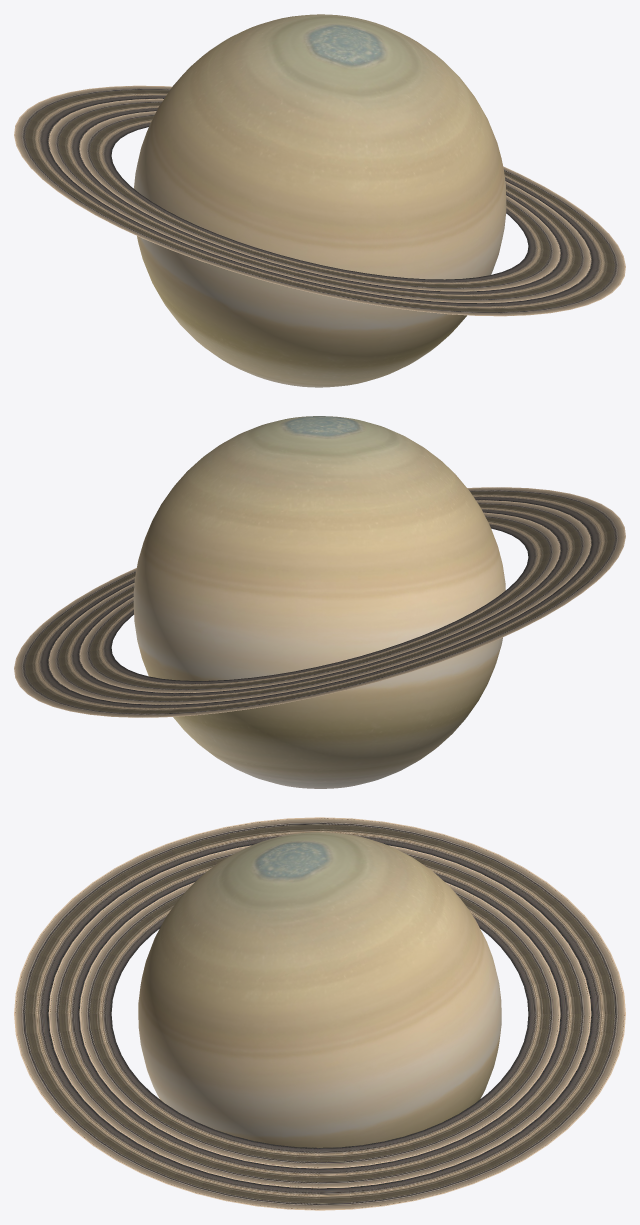
The model's file is Saturn.glb.
The picture shows the model from 3 angles, top to bottom: view 1: azimuth 30°, elevation 25°; view 2: azimuth 150°, elevation 25°; view 3: azimuth 270°, elevation 25°; orthographic projection. The views are drawn at different scales.
Visible parts, largest first — view 1: saturn, saturn_Esfera; view 2: saturn, saturn_Esfera; view 3: saturn, saturn_Esfera.
Boxes of the visible parts, box(x1,y1,x2,y2) form: saturn: box(134, 14, 506, 387); saturn_Esfera: box(14, 85, 625, 316); saturn: box(133, 416, 505, 788); saturn_Esfera: box(14, 487, 625, 717); saturn: box(138, 832, 501, 1147); saturn_Esfera: box(14, 817, 625, 1210).
Bounding box in the file's own units: 3.3 × 2.03 × 3.42.
2 materials, 2 textured.
